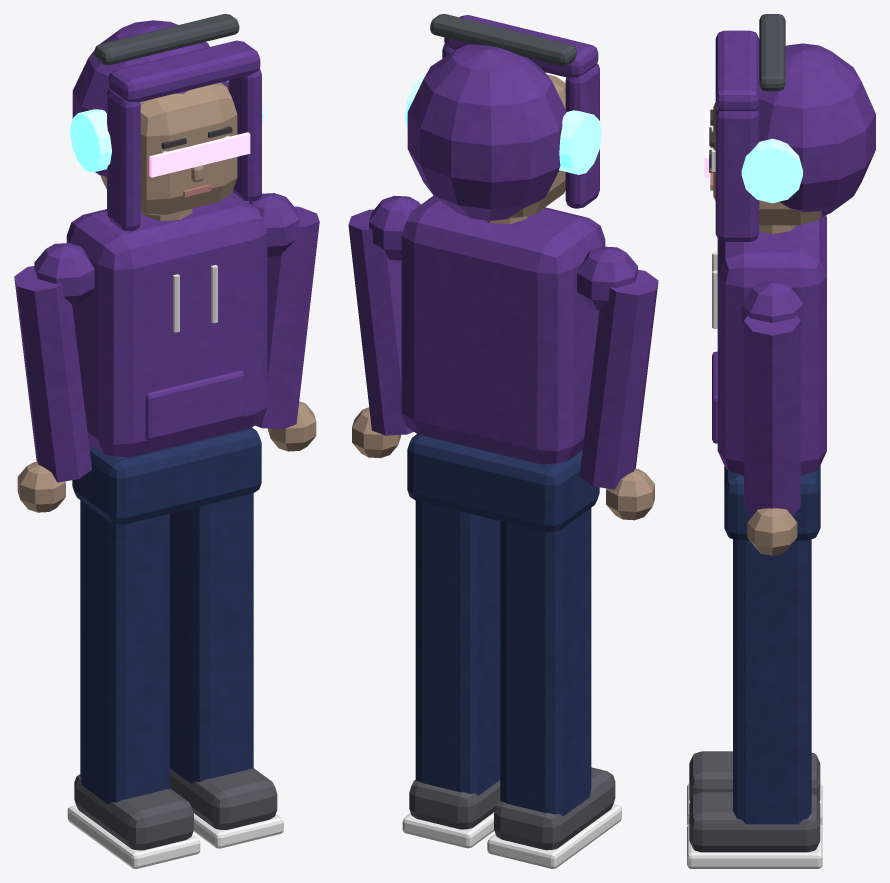
3 renders of one model, left to right at view 1: azimuth 30°, elevation 25°; view 2: azimuth 150°, elevation 25°; view 3: azimuth 270°, elevation 25°, orthographic.
Parts seen in each view (by area): view 1: Skin_night_owl; view 2: Skin_night_owl; view 3: Skin_night_owl.
Boxes of the visible parts, x1,y1,x2,y2 form: Skin_night_owl: (14,14,319,868); Skin_night_owl: (348,14,658,868); Skin_night_owl: (687,14,875,868).
Bounding box in the file's own units: 0.79 × 1.99 × 0.4317.
5 materials, 5 textured.
